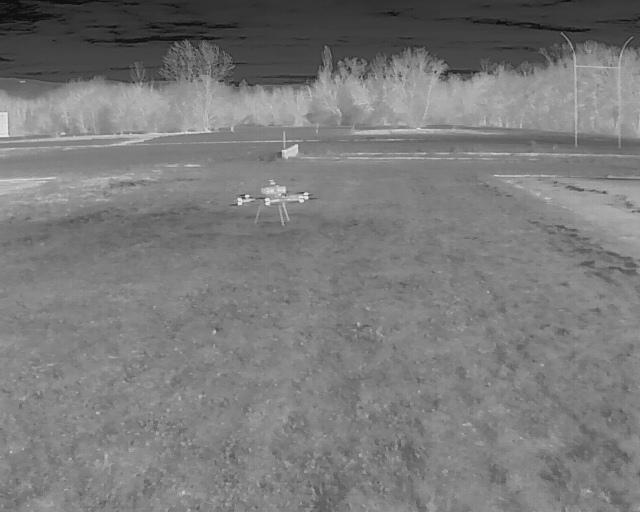drone: (226, 174, 311, 228)
